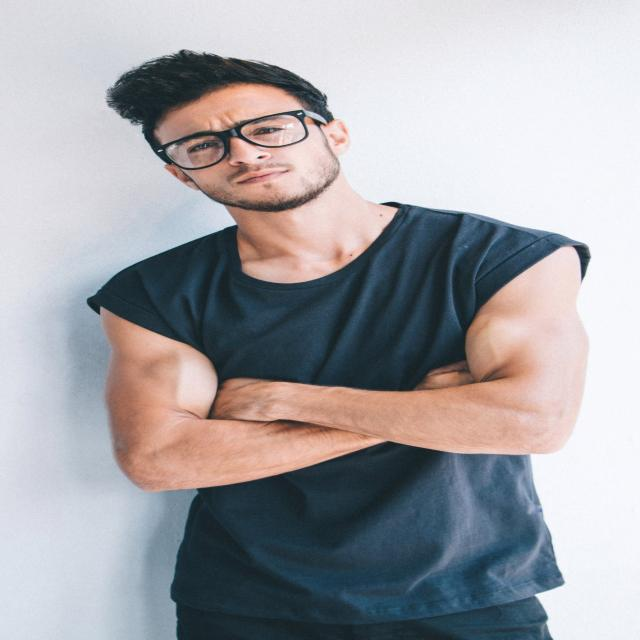earlobe: (334, 146, 346, 155), (190, 183, 200, 191)
eye: (254, 126, 284, 136), (188, 141, 218, 151)
nose: (234, 157, 273, 171)
wholeear: (323, 119, 351, 156), (164, 164, 201, 191)
